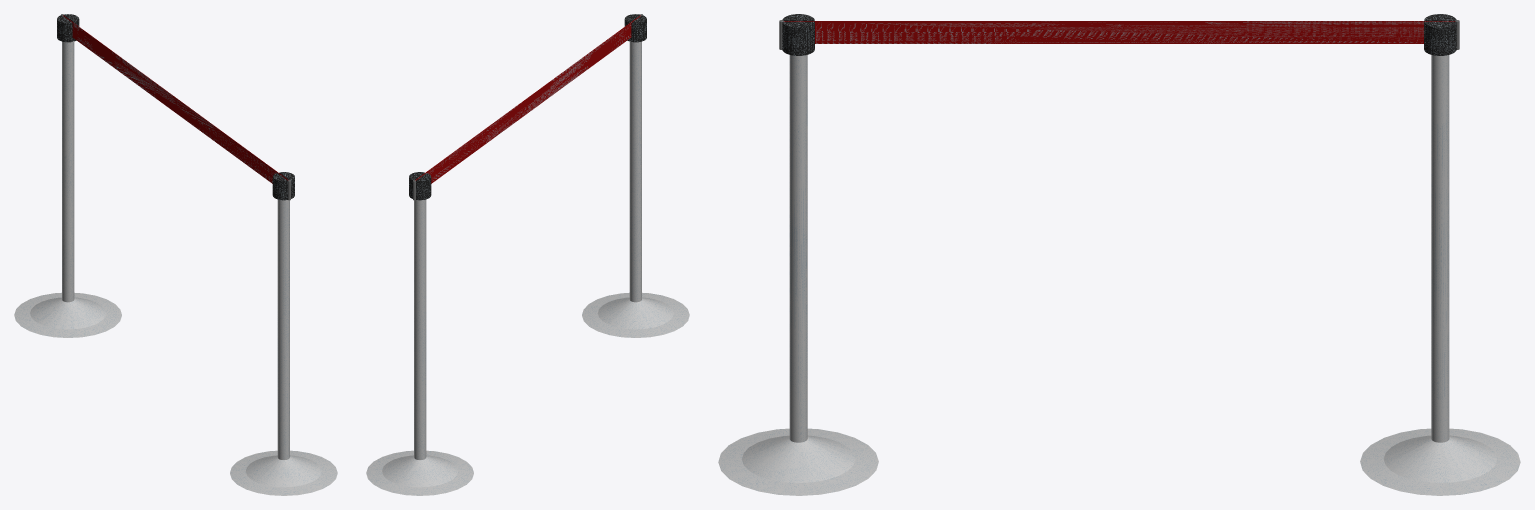
The picture shows the model from 3 angles, left to right: view 1: azimuth 30°, elevation 25°; view 2: azimuth 150°, elevation 25°; view 3: azimuth 270°, elevation 25°; orthographic projection. The views are drawn at different scales.
Visible parts, largest first — view 1: group_3 (×2), group_6 (×2), group_0; view 2: group_6 (×2), group_3 (×2), group_0; view 3: group_3 (×2), group_6 (×2), group_0.
Boxes of the visible parts, <box> form: group_3 (×2): <box>230,172,337,495</box>; group_6 (×2): <box>14,14,121,337</box>; group_0: <box>63,15,288,183</box>; group_6 (×2): <box>366,172,473,495</box>; group_3 (×2): <box>582,14,689,337</box>; group_0: <box>415,15,640,183</box>; group_3 (×2): <box>718,14,878,495</box>; group_6 (×2): <box>1360,14,1520,495</box>; group_0: <box>783,21,1455,43</box>.
Bounding box in the file's own units: 9.79 × 48.88 × 29.65.
